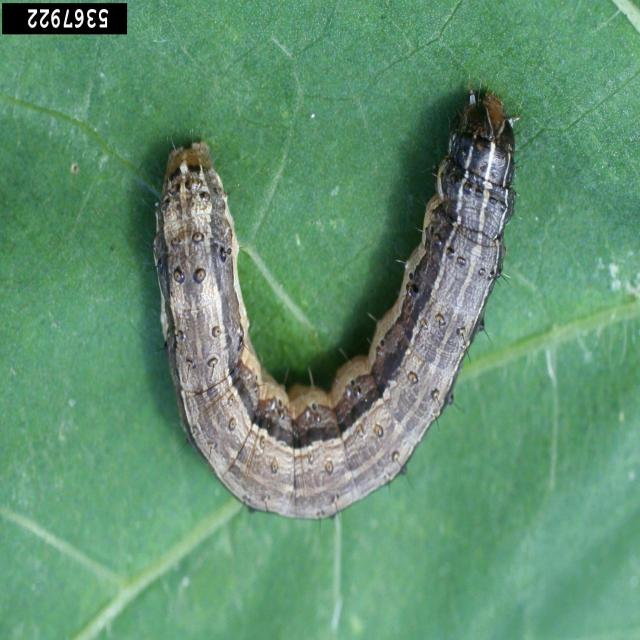armyworm: (151, 80, 520, 520)
